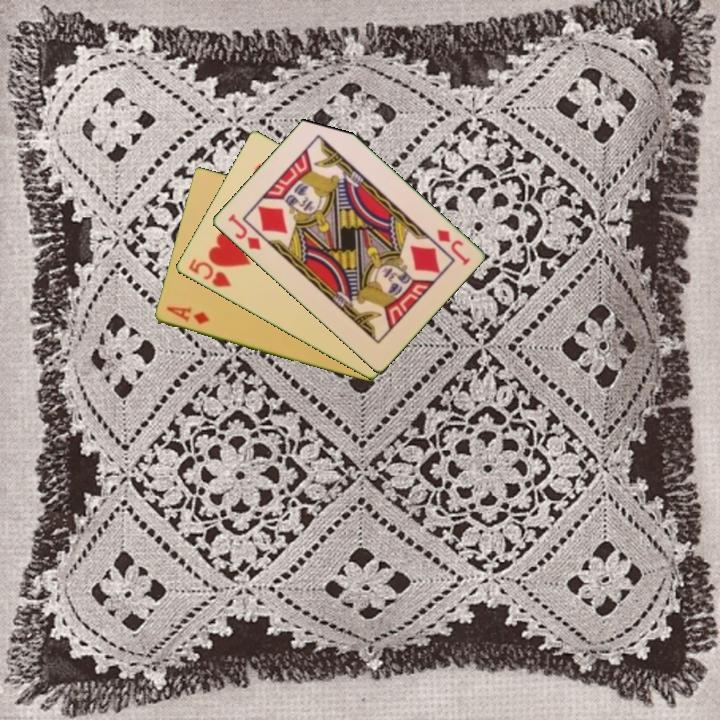5h: (185, 255, 234, 290)
Ad: (162, 303, 212, 328)
Jd: (224, 210, 264, 253), (433, 226, 473, 268)
